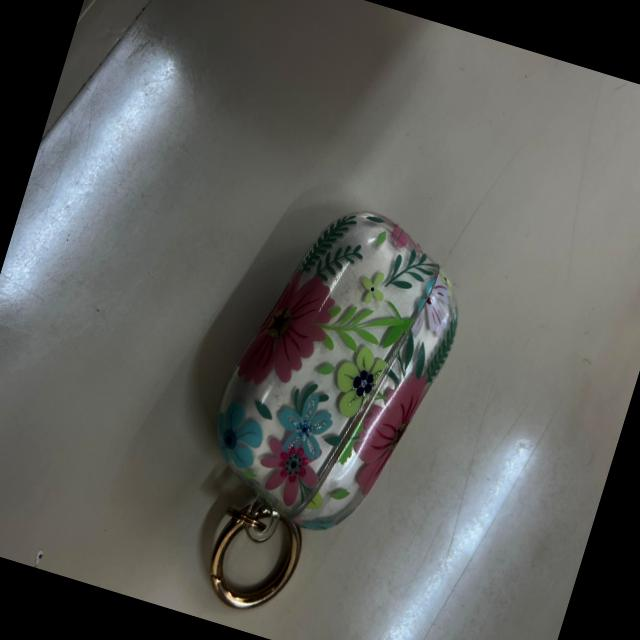inorganic: (163, 185, 483, 640)
